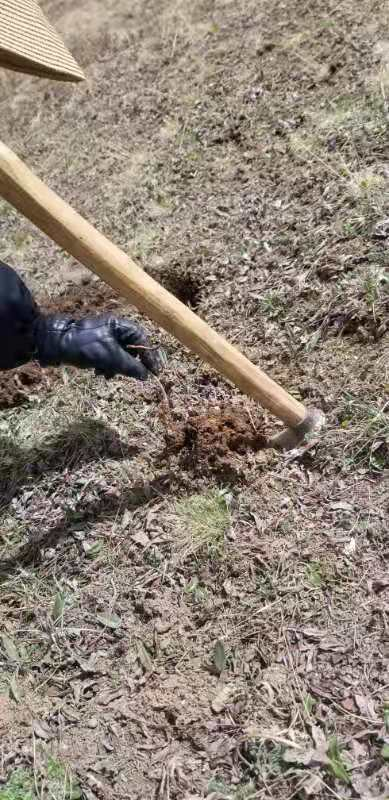cpf: (126, 337, 164, 352)
